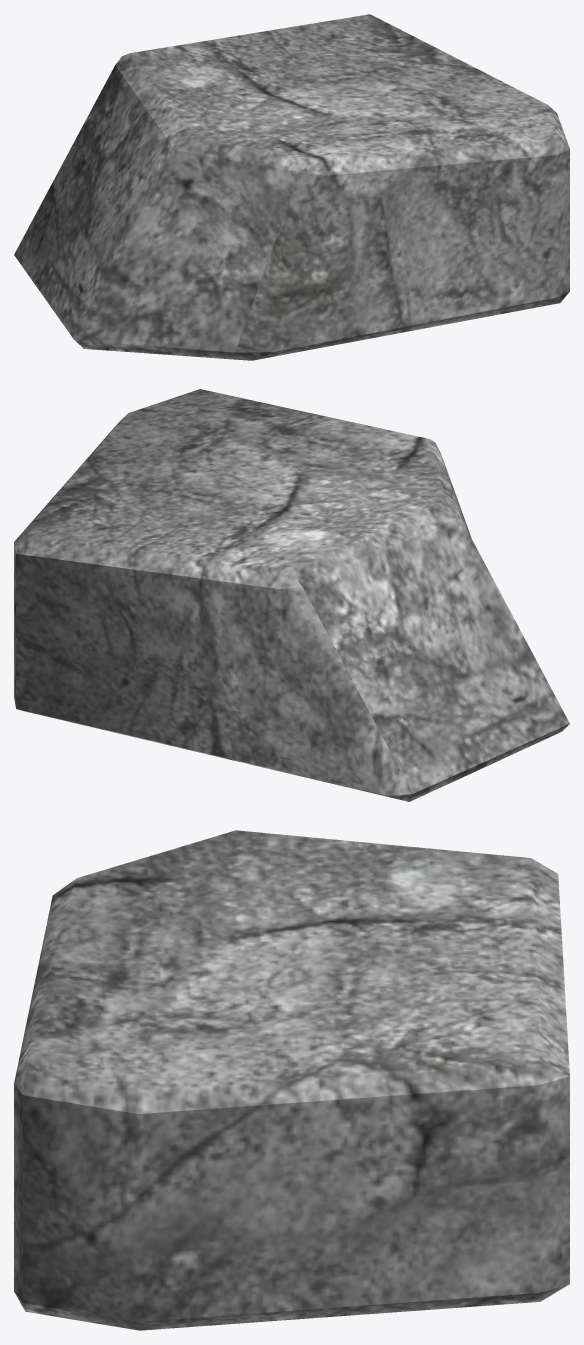
Rendered from materials_3_rubble_3.fbx.
The picture shows the model from 3 angles, top to bottom: view 1: azimuth 30°, elevation 25°; view 2: azimuth 150°, elevation 25°; view 3: azimuth 270°, elevation 25°; orthographic projection. The views are drawn at different scales.
Visible parts, largest first — view 1: materials_3_rubble_3; view 2: materials_3_rubble_3; view 3: materials_3_rubble_3.
Part boxes in pixels (x1=…): materials_3_rubble_3: x1=14, y1=14, x2=569, y2=360; materials_3_rubble_3: x1=14, y1=389, x2=569, y2=801; materials_3_rubble_3: x1=14, y1=830, x2=569, y2=1330.
Size of the model in its own units: 38.81 by 15.36 by 28.59.
